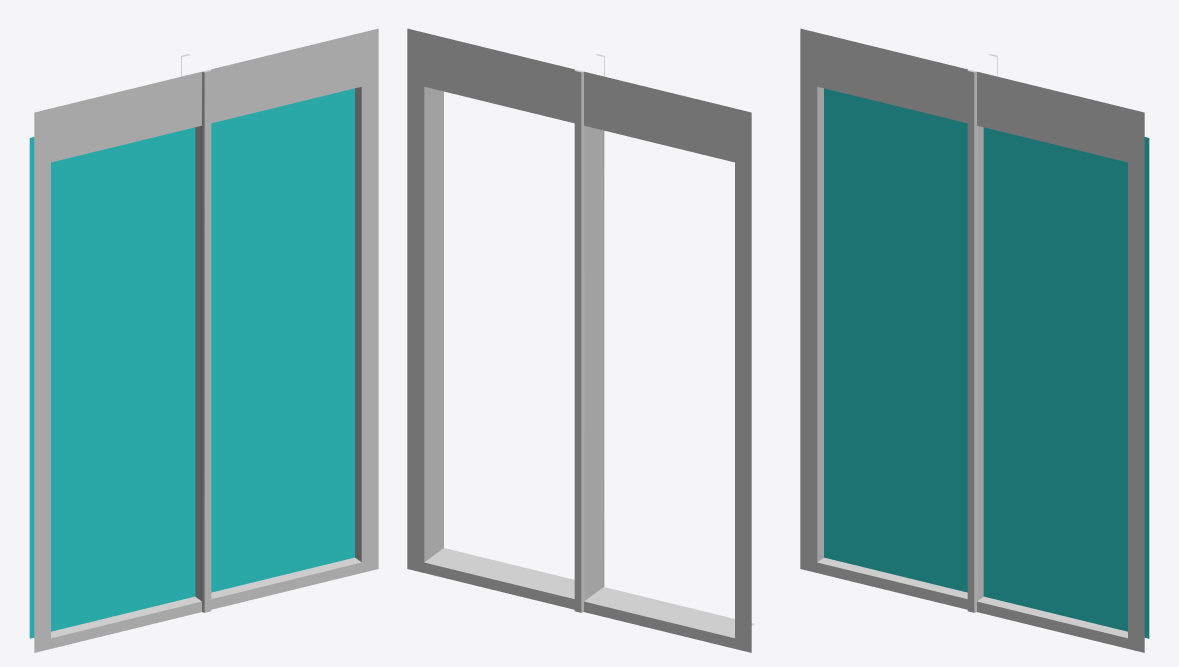
Rendered from Metal_FullWindow.gltf.
3 renders of one model, left to right at view 1: azimuth 30°, elevation 25°; view 2: azimuth 150°, elevation 25°; view 3: azimuth 330°, elevation 25°, orthographic.
Parts seen in each view (by area): view 1: Metal_FullWindow; view 2: Metal_FullWindow; view 3: Metal_FullWindow.
Part boxes in pixels (x1,y1,x2,y2): Metal_FullWindow: [29, 28, 378, 652]; Metal_FullWindow: [407, 28, 754, 652]; Metal_FullWindow: [800, 28, 1149, 652].
Size of the model in its own units: 2 by 3 by 0.2311.
